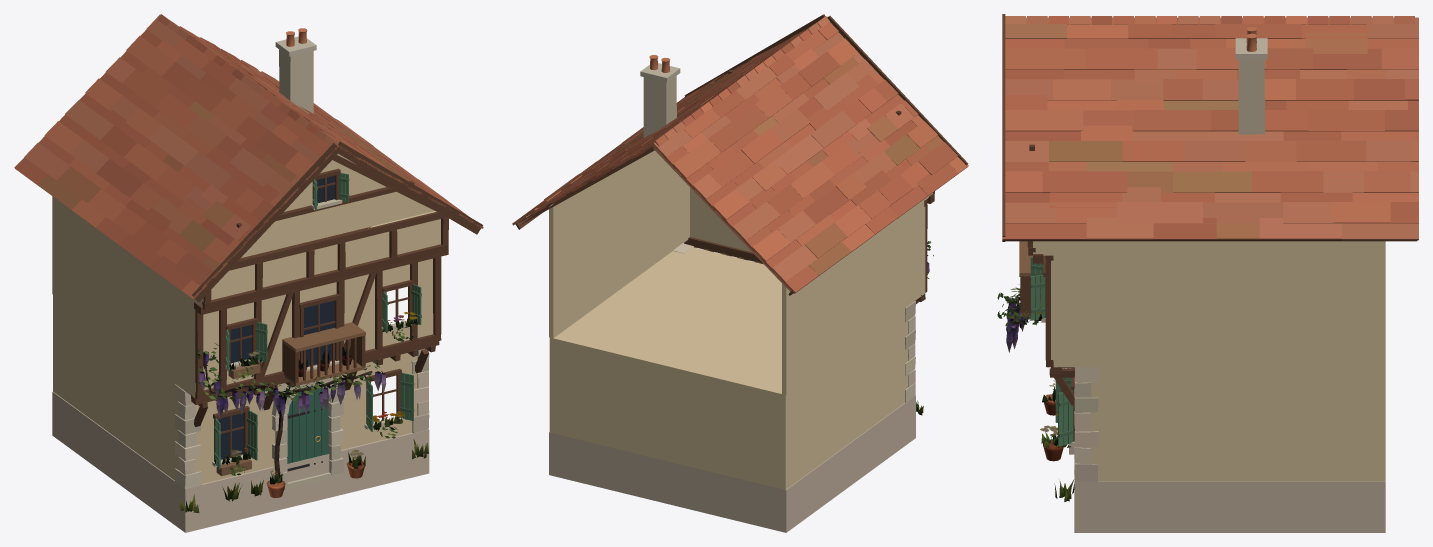
Rendered from vivienda_terrazas.glb.
3 renders of one model, left to right at view 1: azimuth 30°, elevation 25°; view 2: azimuth 150°, elevation 25°; view 3: azimuth 270°, elevation 25°, orthographic. The views are drawn at different scales.
Parts seen in each view (by area): view 1: vivienda_terrazas_fijo, vivienda_terrazas_vegetacion, vivienda_terrazas_piezas; view 2: vivienda_terrazas_fijo; view 3: vivienda_terrazas_fijo, vivienda_terrazas_vegetacion, vivienda_terrazas_piezas.
Part boxes in pixels (x1,y1,x2,y2): vivienda_terrazas_fijo: (14, 14, 483, 532); vivienda_terrazas_vegetacion: (178, 312, 428, 512); vivienda_terrazas_piezas: (204, 352, 372, 497); vivienda_terrazas_fijo: (512, 14, 968, 532); vivienda_terrazas_fijo: (1002, 14, 1418, 532); vivienda_terrazas_vegetacion: (997, 284, 1074, 501); vivienda_terrazas_piezas: (1015, 296, 1063, 461).
Bounding box in the file's own units: 7.66 × 10.04 × 8.2.
